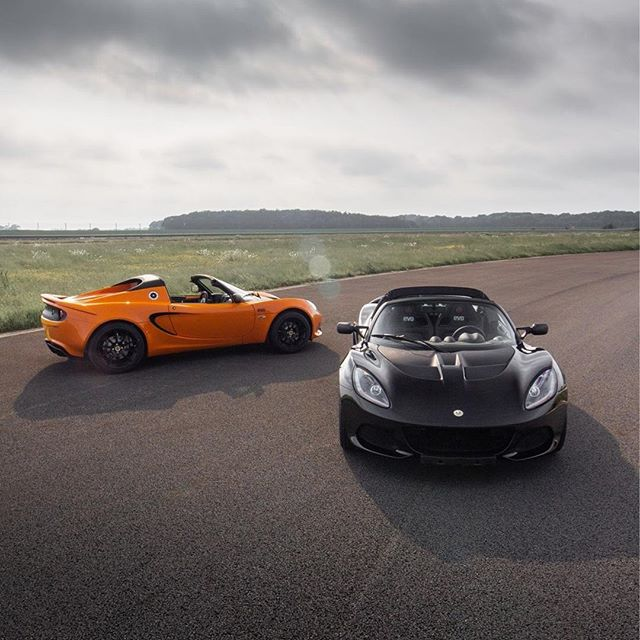car: (337, 274, 583, 483), (23, 267, 335, 377)
